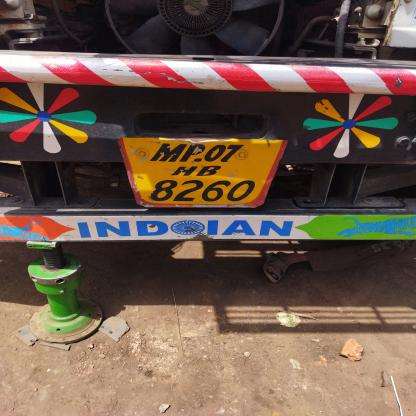Number_Plate_Detected: (125, 136, 281, 208)
